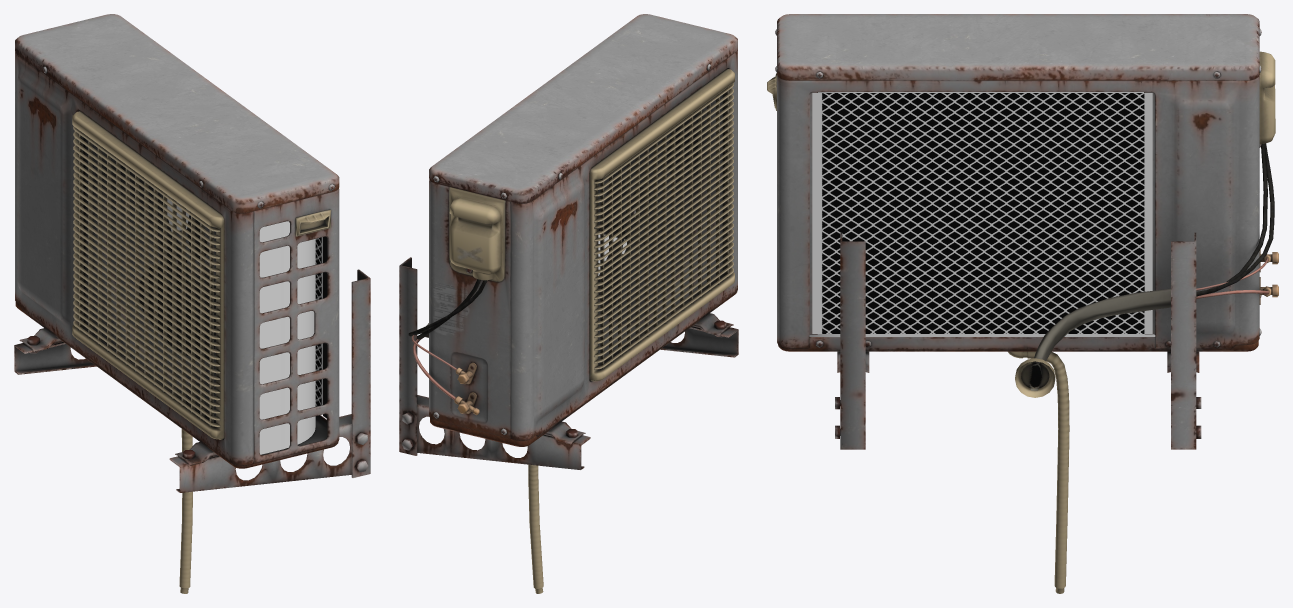
File: exterior_aircon_unit__exterior_aircon_unit_rusted.obj
The picture shows the model from 3 angles, left to right: view 1: azimuth 30°, elevation 25°; view 2: azimuth 150°, elevation 25°; view 3: azimuth 270°, elevation 25°; orthographic projection. The views are drawn at different scales.
Visible parts, largest first — view 1: exterior_aircon_unit_rusted; view 2: exterior_aircon_unit_rusted; view 3: exterior_aircon_unit_rusted.
Part boxes in pixels (x1,y1,x2,y2): exterior_aircon_unit_rusted: (14, 14, 370, 593); exterior_aircon_unit_rusted: (399, 14, 738, 593); exterior_aircon_unit_rusted: (767, 14, 1278, 593).
Bounding box in the file's own units: 0.3742 × 0.9279 × 0.8.
Materials: 2 (2 with a texture image).
